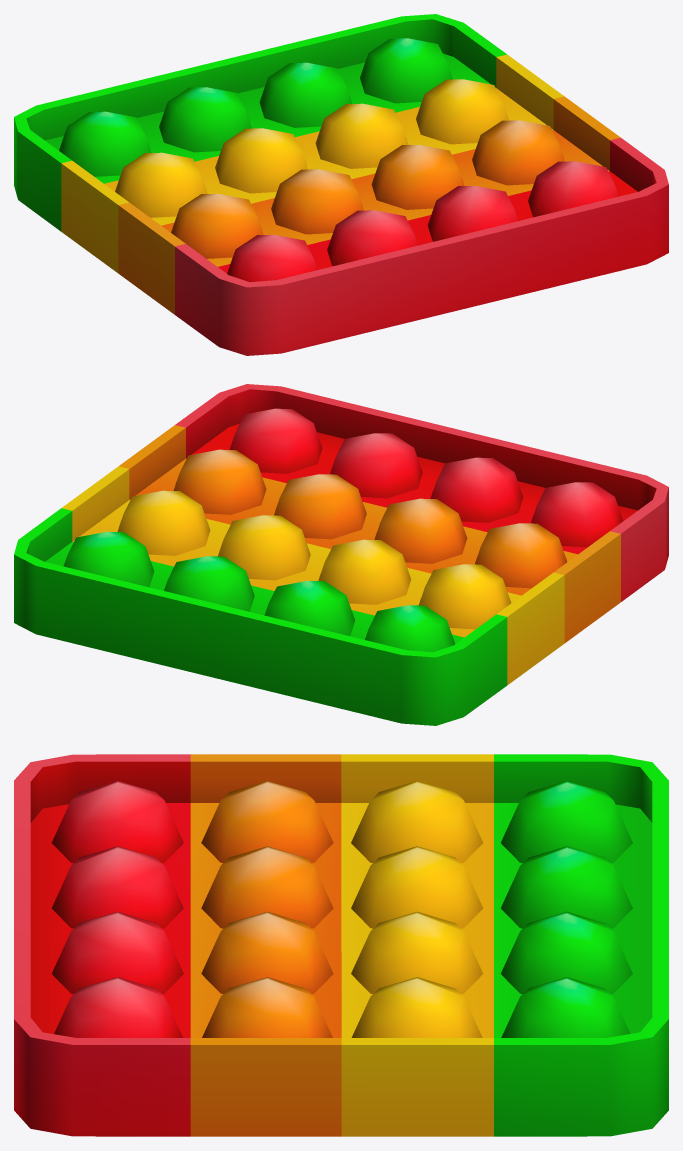
Rendered from popIt.fbx.
3 views of the same model, one above another, from view 1: azimuth 30°, elevation 25°; view 2: azimuth 150°, elevation 25°; view 3: azimuth 270°, elevation 25° (orthographic). The views are drawn at different scales.
Visible parts, largest first — view 1: popIt; view 2: popIt; view 3: popIt.
Boxes of the visible parts, <box> form: popIt: <box>14,14,668,355</box>; popIt: <box>14,384,668,725</box>; popIt: <box>14,754,668,1136</box>.
Bounding box in the file's own units: 14.05 × 2.48 × 13.37.
